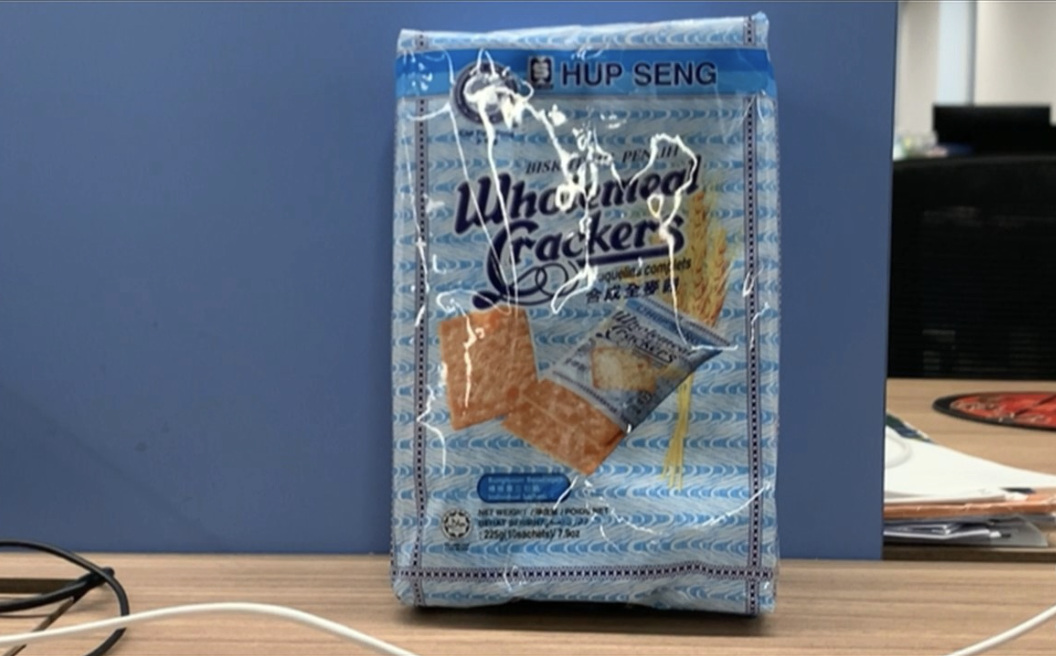crackers_200g-299g: (433, 56, 746, 572)
